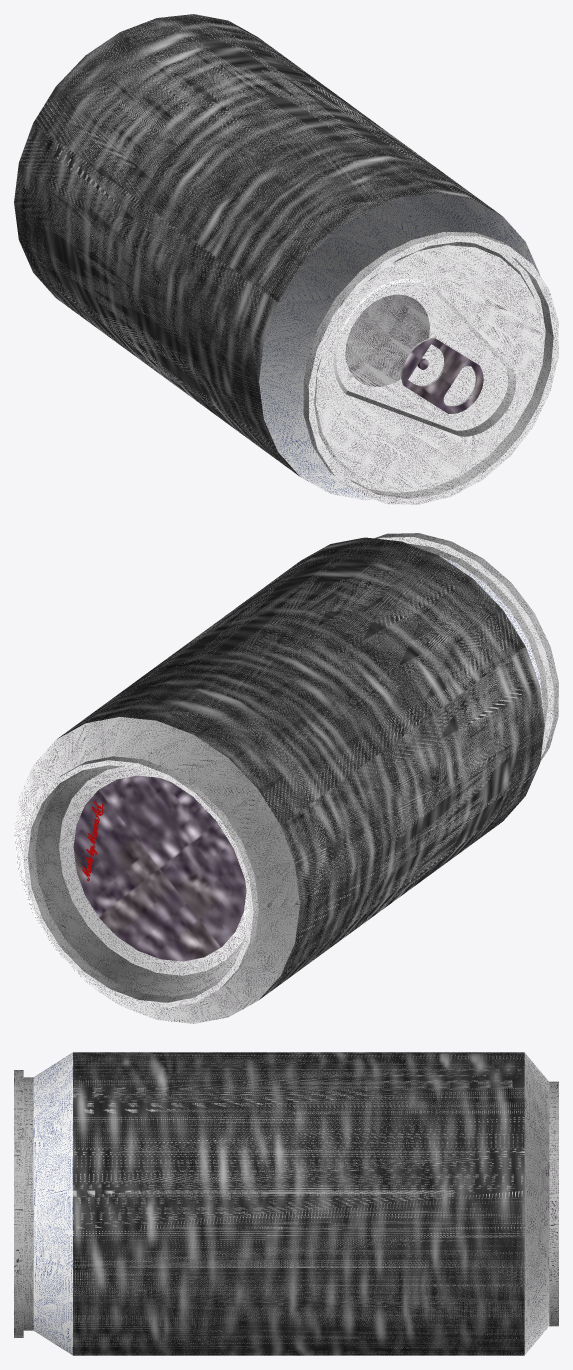
File: model_align.obj
3 renders of one model, top to bottom at view 1: azimuth 30°, elevation 25°; view 2: azimuth 150°, elevation 25°; view 3: azimuth 270°, elevation 25°, orthographic. The views are drawn at different scales.
Parts seen in each view (by area): view 1: mesh25_mesh25-geometry; view 2: mesh25_mesh25-geometry; view 3: mesh25_mesh25-geometry.
Part boxes in pixels (x1=…): mesh25_mesh25-geometry: x1=14, y1=14, x2=558, y2=504; mesh25_mesh25-geometry: x1=14, y1=533, x2=558, y2=1023; mesh25_mesh25-geometry: x1=14, y1=1052, x2=558, y2=1355.
Bounding box in the file's own units: 0.0615 × 0.0615 × 0.1102.
